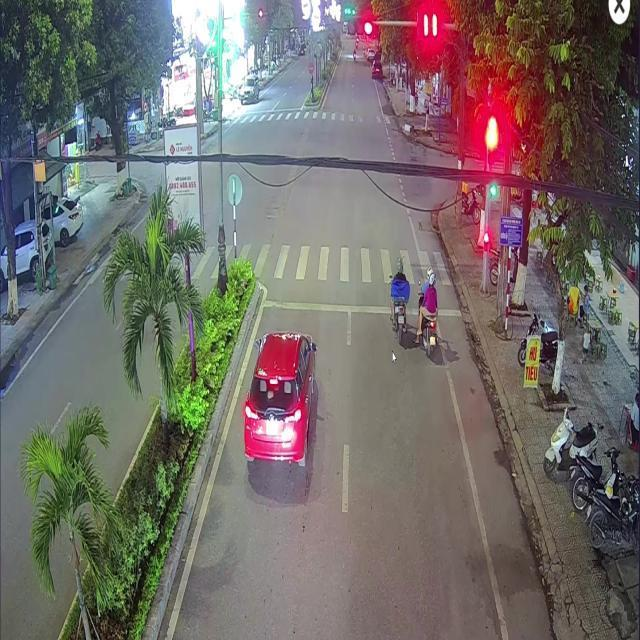car: (242, 331, 316, 464)
motobike: (417, 284, 437, 355), (390, 297, 406, 341)
red_light: (345, 17, 372, 35), (486, 133, 495, 167), (483, 232, 487, 251)
stop_line: (263, 299, 463, 316)
